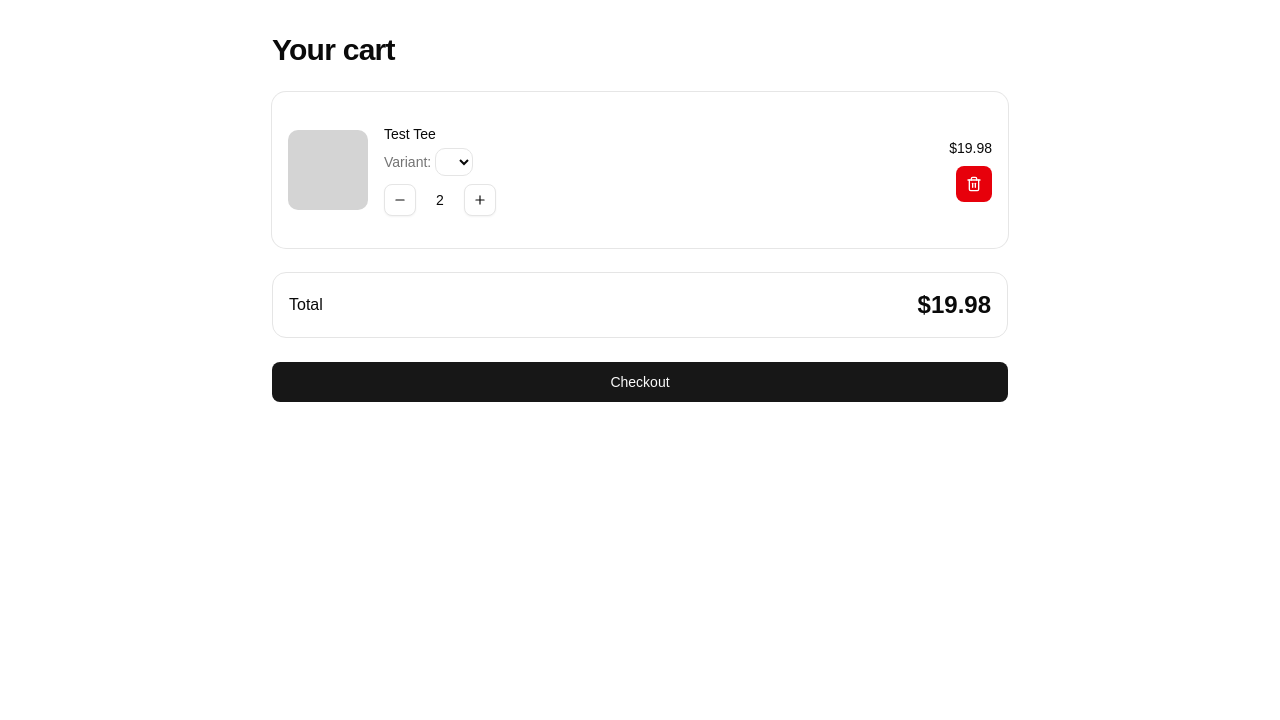
Test: Cart › confirms removal via alert dialog when the item quantity is more than one
The width and height of the screenshot is (1280, 720).
Click the button named "Remove Test Tee".
click(974, 184)  # box [956,166,992,202]
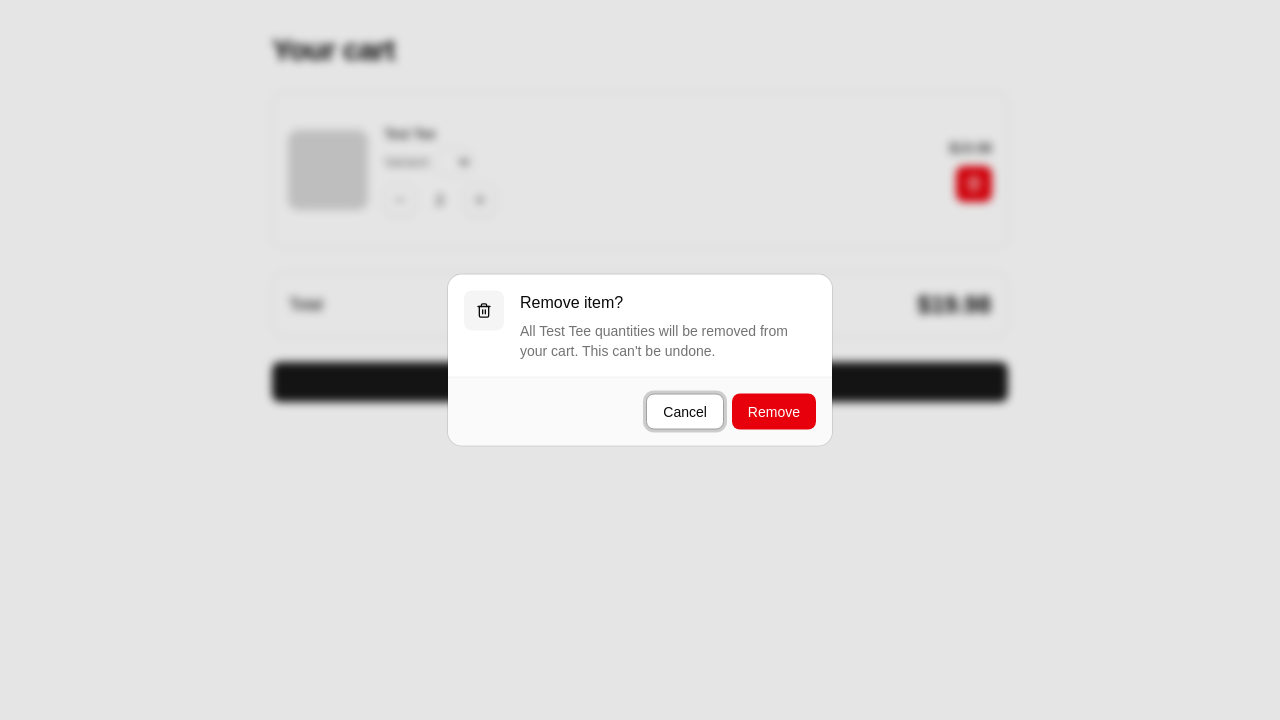
Result: the heading "Remove item?" is shown at [520,290,623,314]
Click the button "Remove".
click(774, 412)  # box [732,394,816,430]
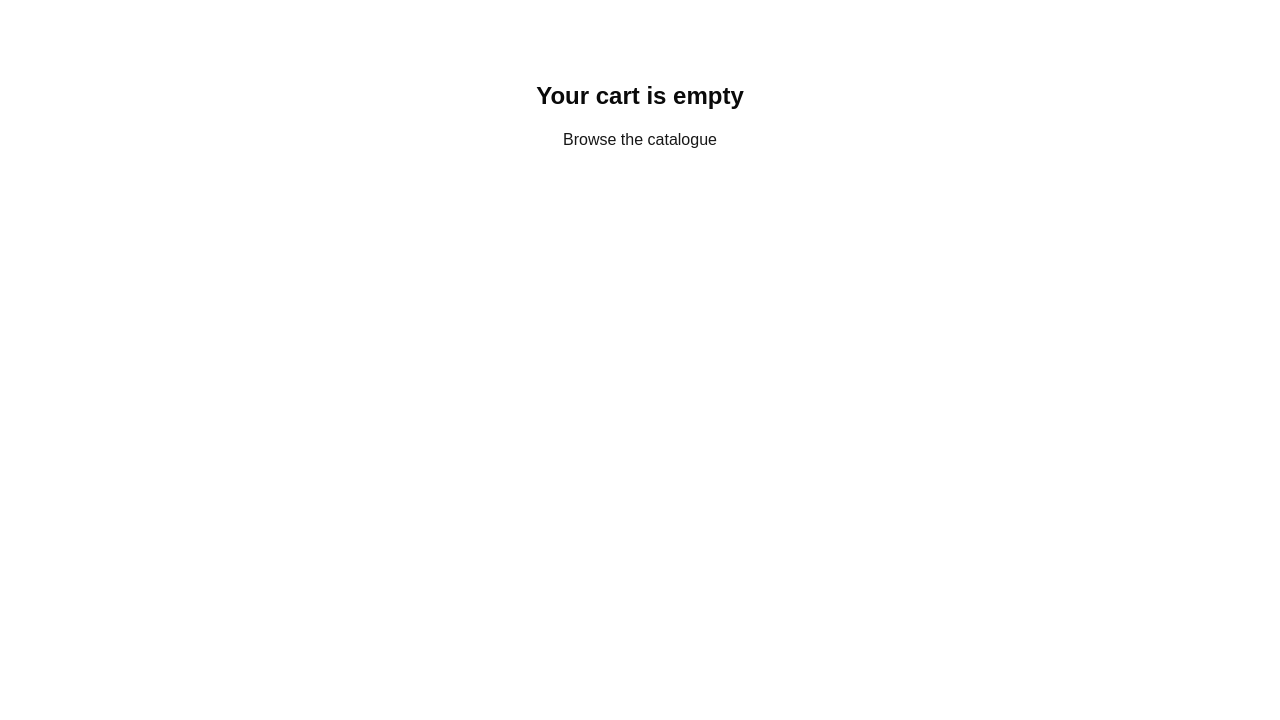
Result: the heading "Your cart is empty" is shown at [536,82,744,109]
